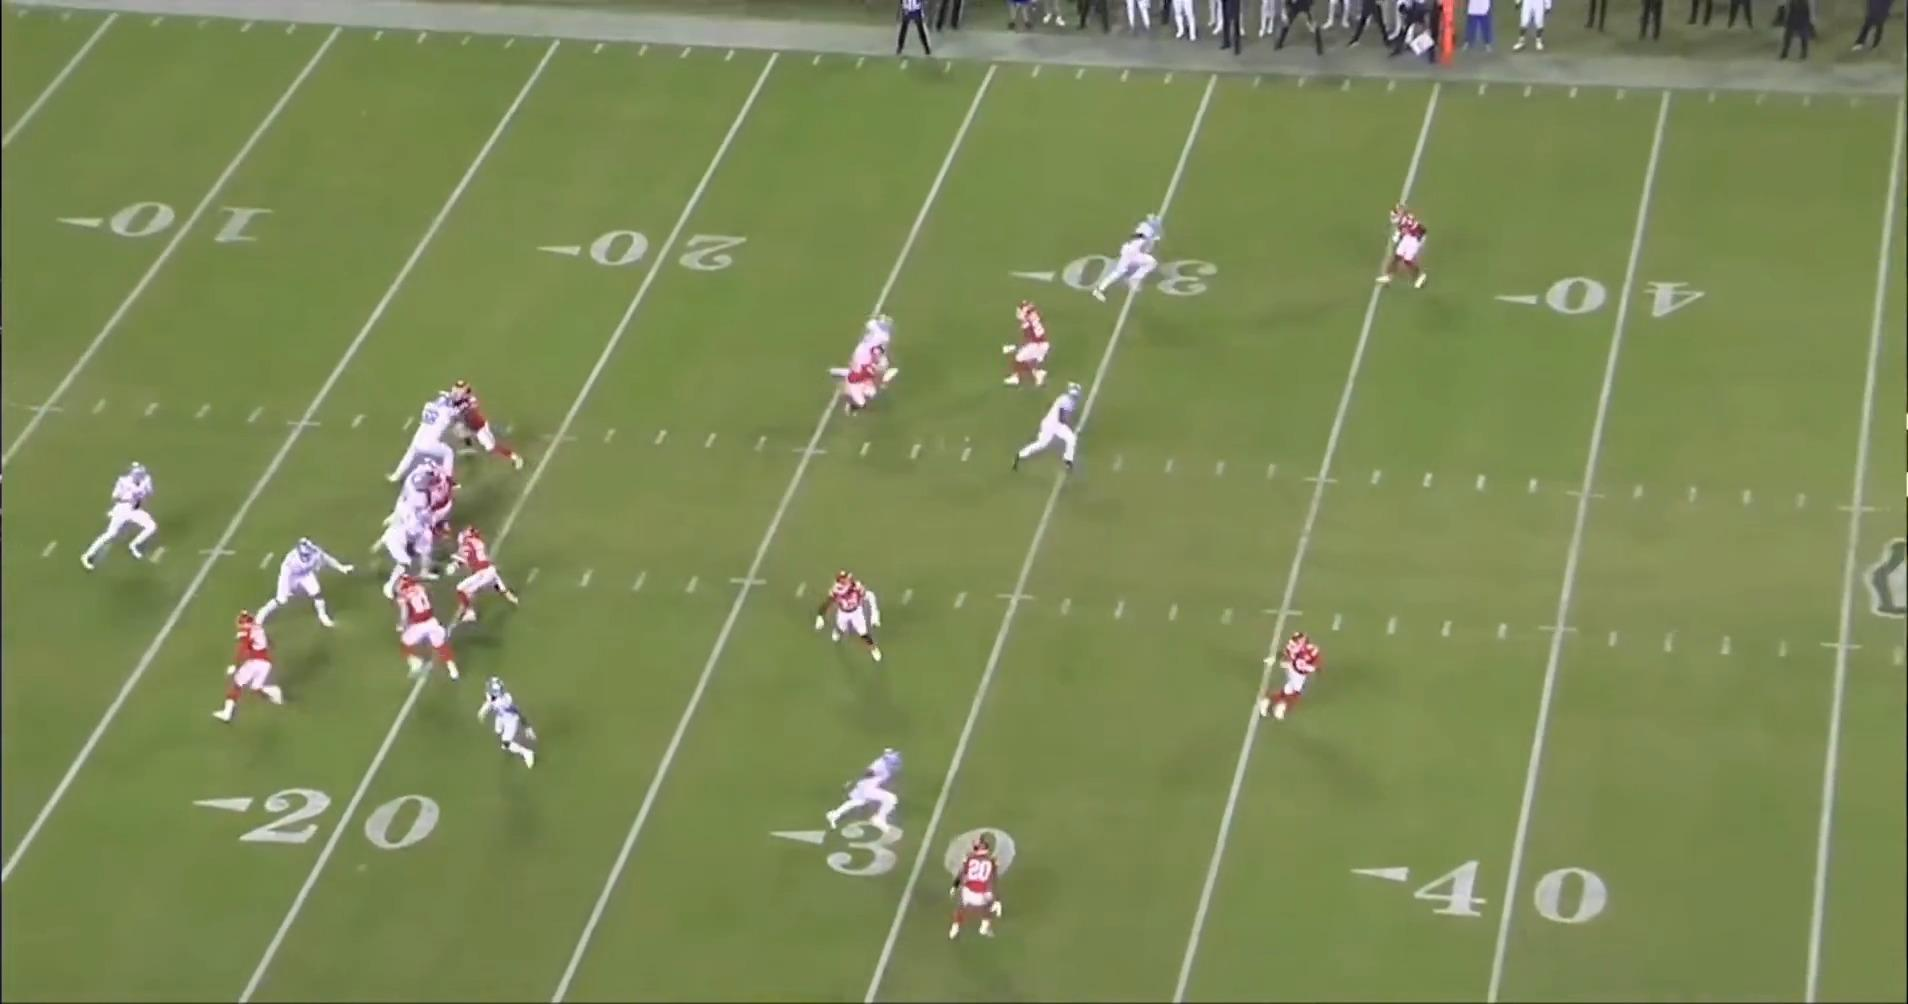player: (76, 458, 165, 575), (253, 532, 360, 628), (212, 609, 289, 727), (440, 525, 520, 624), (830, 748, 913, 841), (812, 565, 888, 665), (390, 394, 465, 495), (1012, 385, 1088, 482), (444, 377, 522, 471), (1095, 214, 1173, 306), (942, 835, 1006, 946), (392, 580, 462, 681), (1259, 628, 1326, 729), (376, 499, 439, 604), (473, 672, 539, 771), (826, 310, 897, 398), (835, 333, 905, 417), (1374, 205, 1431, 296), (389, 452, 454, 530), (1001, 299, 1055, 391), (419, 464, 466, 548), (391, 473, 431, 517)
ref: (891, 3, 935, 65)
